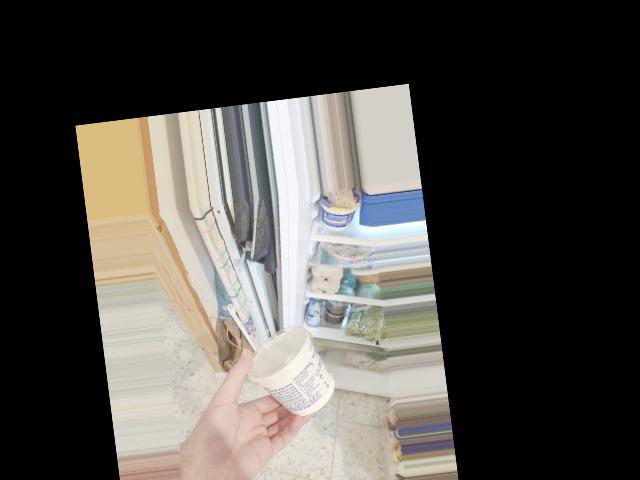cotage: (248, 321, 334, 412)
